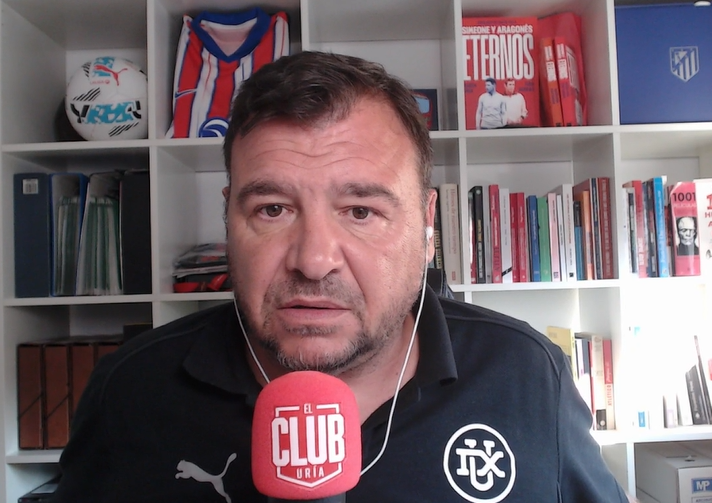person: (50, 49, 634, 501)
